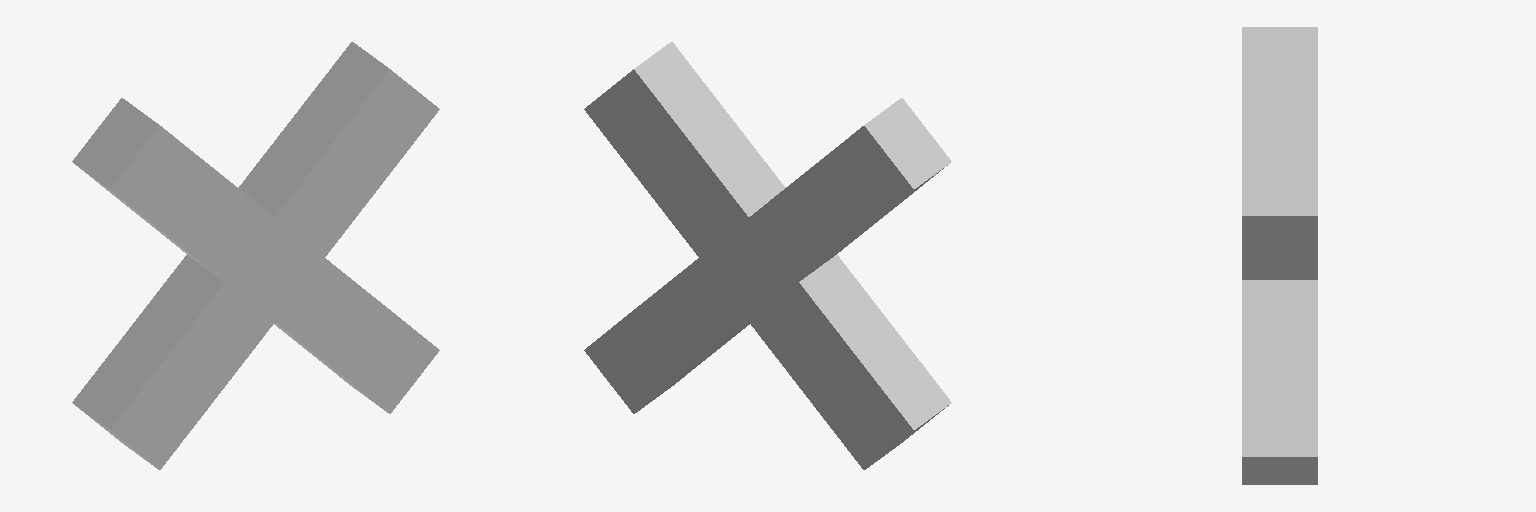
Rendered from no_place.obj.
The picture shows the model from 3 angles: view 1: azimuth 30°, elevation 25°; view 2: azimuth 150°, elevation 25°; view 3: azimuth 270°, elevation 25°; orthographic projection.
Visible parts, largest first — view 1: Mesh1 Component_1_1 Model; view 2: Mesh1 Component_1_1 Model; view 3: Mesh1 Component_1_1 Model.
Part boxes in pixels (x1,y1,x2,y2): Mesh1 Component_1_1 Model: (72, 42, 439, 469); Mesh1 Component_1_1 Model: (584, 42, 951, 469); Mesh1 Component_1_1 Model: (1242, 27, 1317, 484).
Size of the model in its own units: 0.05 by 0.05 by 0.01.